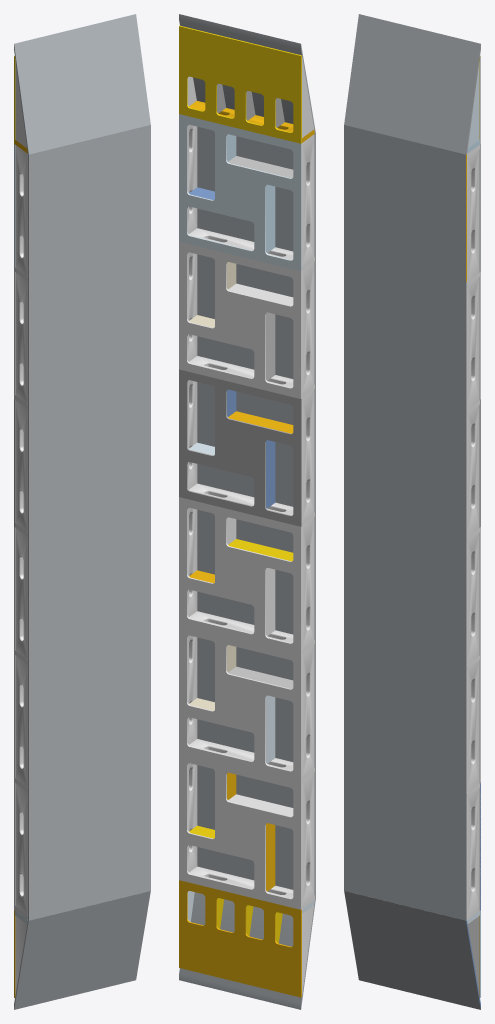
Rendered from 2026_ARC_3v3_long_ramp_and_platform.gltf.
3 renders of one model, left to right at view 1: azimuth 30°, elevation 25°; view 2: azimuth 150°, elevation 25°; view 3: azimuth 330°, elevation 25°, orthographic.
Parts seen in each view (by area): view 1: Surface 1051, Surface 1070, Surface 1066, Surface 1056, Surface 1061, Surface 1046, Surface 1041, Surface 1075, Platform Wall (×6), Ramp Wall (×2); view 2: Platform Wall (×18), Surface 1044, Surface 1074, Surface 1049, Surface 1072, Surface 1054, Surface 1064, Surface 1069, Surface 1059, Surface 1056, Surface 1051, Surface 1070 (+19 smaller); view 3: Surface 1051, Surface 1066, Surface 1056, Surface 1061, Surface 1070, Surface 1046, Surface 1041, Surface 1075, Platform Wall (×6), Surface 1001, Surface 1027.
Part boxes in pixels (bbox=[...]): Surface 1051: bbox=[28, 252, 150, 409]; Surface 1070: bbox=[28, 763, 150, 920]; Surface 1066: bbox=[28, 635, 150, 792]; Surface 1056: bbox=[28, 380, 150, 537]; Surface 1061: bbox=[28, 508, 150, 665]; Surface 1046: bbox=[28, 125, 150, 282]; Surface 1041: bbox=[14, 14, 150, 154]; Surface 1075: bbox=[14, 891, 150, 1009]; Platform Wall (×6): bbox=[15, 145, 27, 914]; Ramp Wall (×2): bbox=[15, 61, 27, 994]; Platform Wall (×18): bbox=[187, 124, 314, 908]; Surface 1044: bbox=[179, 25, 301, 143]; Surface 1074: bbox=[179, 880, 301, 997]; Surface 1049: bbox=[179, 114, 301, 271]; Surface 1072: bbox=[179, 752, 301, 909]; Surface 1054: bbox=[179, 242, 301, 398]; Surface 1064: bbox=[179, 497, 301, 654]; Surface 1069: bbox=[179, 625, 301, 781]; Surface 1059: bbox=[179, 369, 301, 526]; Surface 1056: bbox=[197, 382, 315, 516]; Surface 1051: bbox=[197, 254, 315, 388]; Surface 1070: bbox=[197, 765, 315, 899]; Surface 1051: bbox=[344, 252, 466, 409]; Surface 1066: bbox=[344, 635, 466, 792]; Surface 1056: bbox=[344, 380, 466, 537]; Surface 1061: bbox=[344, 508, 466, 665]; Surface 1070: bbox=[344, 763, 465, 920]; Surface 1046: bbox=[344, 125, 465, 282]; Surface 1041: bbox=[344, 14, 480, 154]; Surface 1075: bbox=[344, 891, 480, 1009]; Platform Wall (×6): bbox=[467, 150, 479, 919]; Surface 1001: bbox=[467, 61, 479, 148]; Surface 1027: bbox=[467, 916, 479, 994].
Size of the model in its own units: 1 by 7.57 by 0.21.
